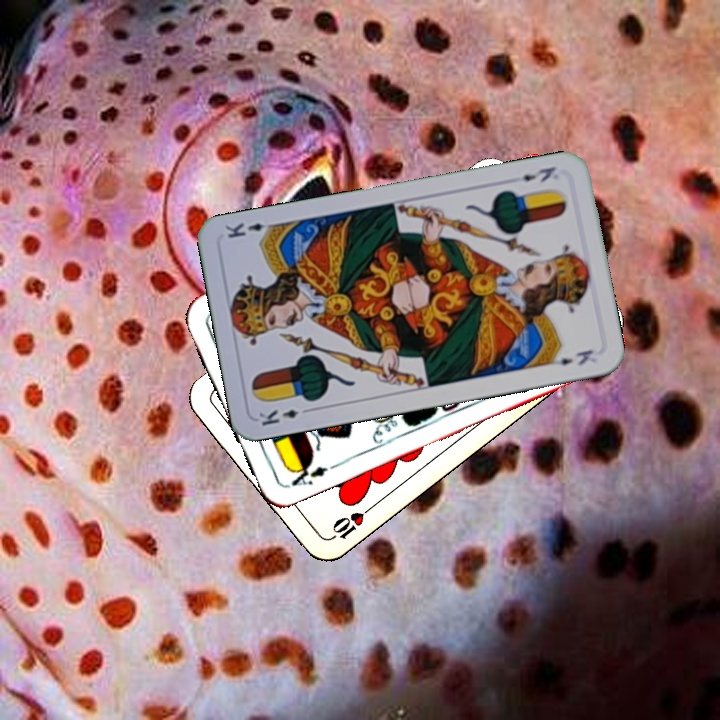EA: (286, 457, 339, 489)
EK: (255, 404, 314, 429), (518, 162, 558, 185)
H10: (324, 502, 375, 544)
